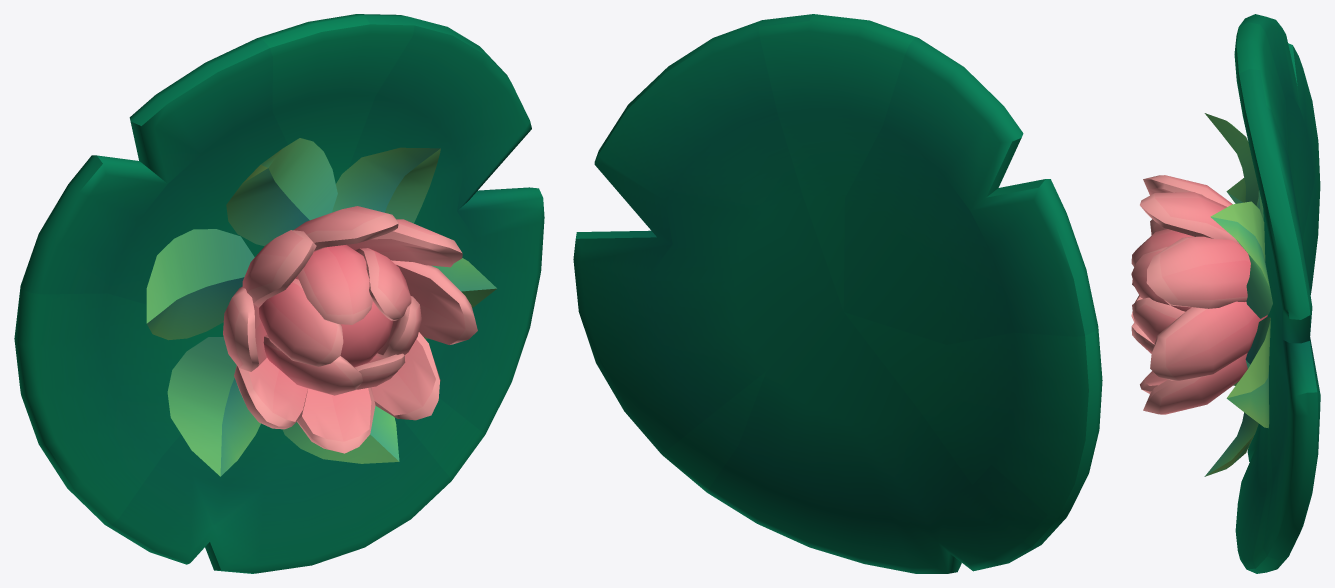
Rendered from PlantWarrior_Shield.glb.
3 views of the same model, side by side, from view 1: azimuth 30°, elevation 25°; view 2: azimuth 150°, elevation 25°; view 3: azimuth 270°, elevation 25° (orthographic). The views are drawn at different scales.
Visible parts, largest first — view 1: PlantWarrior_Shield; view 2: PlantWarrior_Shield; view 3: PlantWarrior_Shield.
Boxes of the visible parts, x1=… form: PlantWarrior_Shield: x1=14, y1=14, x2=544, y2=573; PlantWarrior_Shield: x1=573, y1=14, x2=1102, y2=573; PlantWarrior_Shield: x1=1131, y1=14, x2=1320, y2=573.
Size of the model in its own units: 0.9914 by 0.9749 by 0.3312.
Materials: 1 (1 with a texture image).
